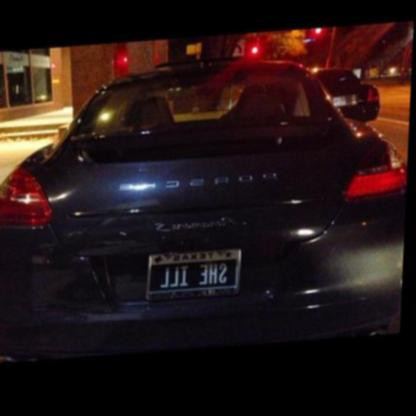License_Plate: (145, 242, 241, 305)
